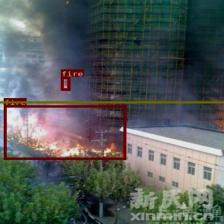fire: (4, 105, 125, 159), (60, 77, 70, 90)
smoke: (0, 0, 224, 103)
